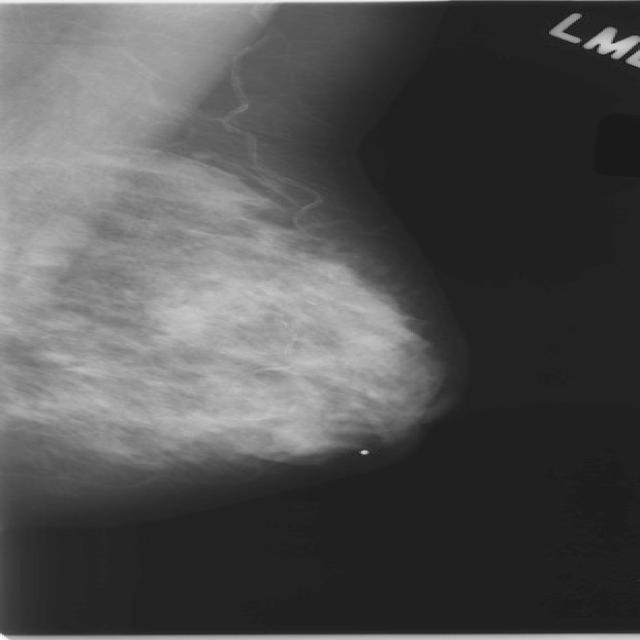tumour: (266, 420, 331, 455)
